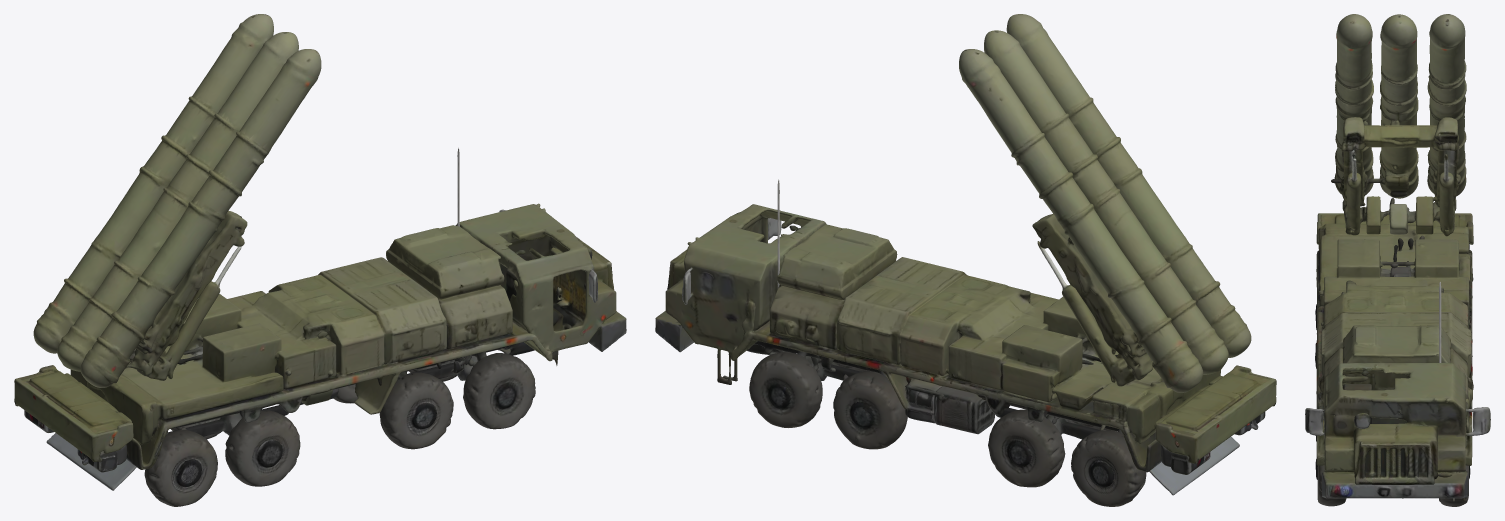
File: hero.glb
3 renders of one model, left to right at view 1: azimuth 30°, elevation 25°; view 2: azimuth 150°, elevation 25°; view 3: azimuth 270°, elevation 25°, orthographic. The views are drawn at different scales.
Visible parts, largest first — view 1: tripo_node_30ca721b-e936-46fe-a566-6909f8a64fed; view 2: tripo_node_30ca721b-e936-46fe-a566-6909f8a64fed; view 3: tripo_node_30ca721b-e936-46fe-a566-6909f8a64fed.
Part boxes in pixels (x1=…): tripo_node_30ca721b-e936-46fe-a566-6909f8a64fed: x1=14, y1=14, x2=626, y2=506; tripo_node_30ca721b-e936-46fe-a566-6909f8a64fed: x1=655, y1=14, x2=1276, y2=506; tripo_node_30ca721b-e936-46fe-a566-6909f8a64fed: x1=1305, y1=14, x2=1490, y2=506.
Bounding box in the file's own units: 1 × 0.7202 × 0.304.
Materials: 1 (1 with a texture image).
